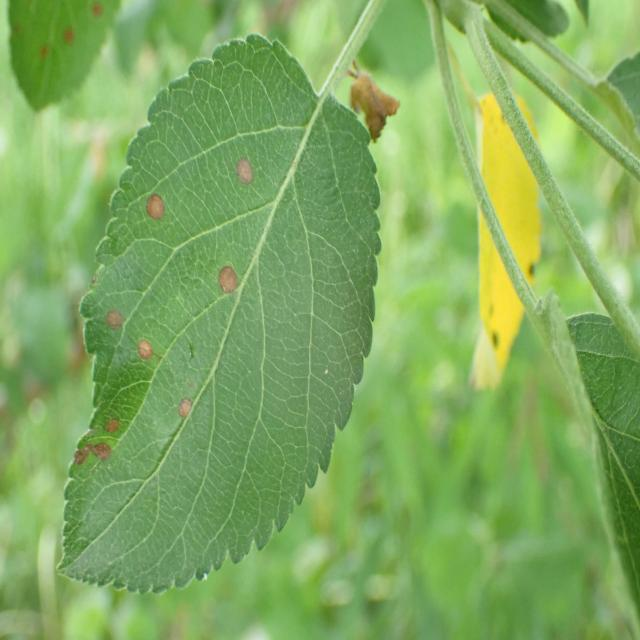Black Rot: (142, 185, 185, 235), (67, 427, 119, 467), (213, 247, 242, 316), (226, 137, 257, 197), (100, 295, 132, 349), (165, 383, 197, 429), (132, 333, 157, 386), (102, 392, 120, 445)
